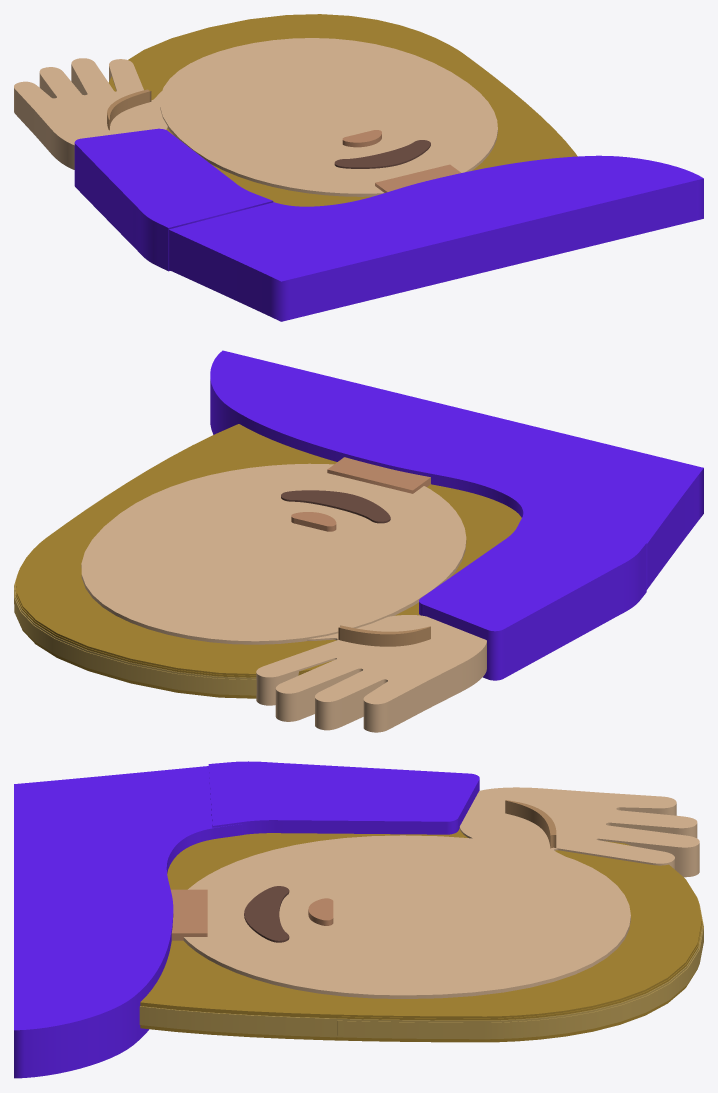
File: emoji_u1f64b_1f3fc_200d_2640.glb
The picture shows the model from 3 angles, top to bottom: view 1: azimuth 30°, elevation 25°; view 2: azimuth 150°, elevation 25°; view 3: azimuth 270°, elevation 25°; orthographic projection. The views are drawn at different scales.
Visible parts, largest first — view 1: emoji_u1f64b_1f3fc_200d_2640; view 2: emoji_u1f64b_1f3fc_200d_2640; view 3: emoji_u1f64b_1f3fc_200d_2640.
Part boxes in pixels (x1,y1,x2,y2): emoji_u1f64b_1f3fc_200d_2640: [14, 14, 703, 321]; emoji_u1f64b_1f3fc_200d_2640: [14, 350, 703, 732]; emoji_u1f64b_1f3fc_200d_2640: [14, 761, 703, 1078].
Size of the model in its own units: 0.031 by 0.003 by 0.0338.
